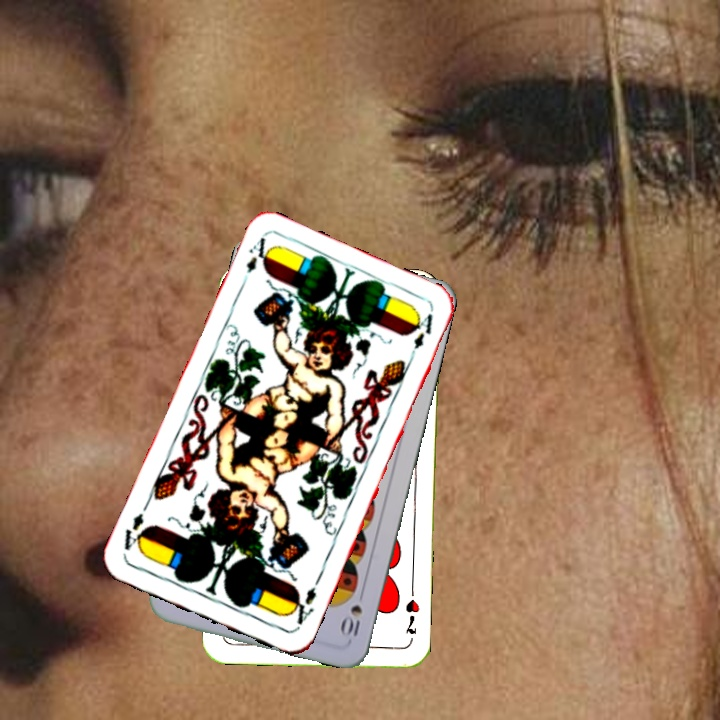EA: (237, 233, 274, 290), (285, 583, 320, 631)
H7: (401, 595, 422, 637)
S10: (338, 585, 367, 639)
